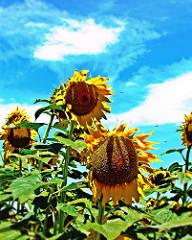sunflower: (81, 123, 156, 204), (60, 69, 110, 129), (0, 106, 37, 154)
